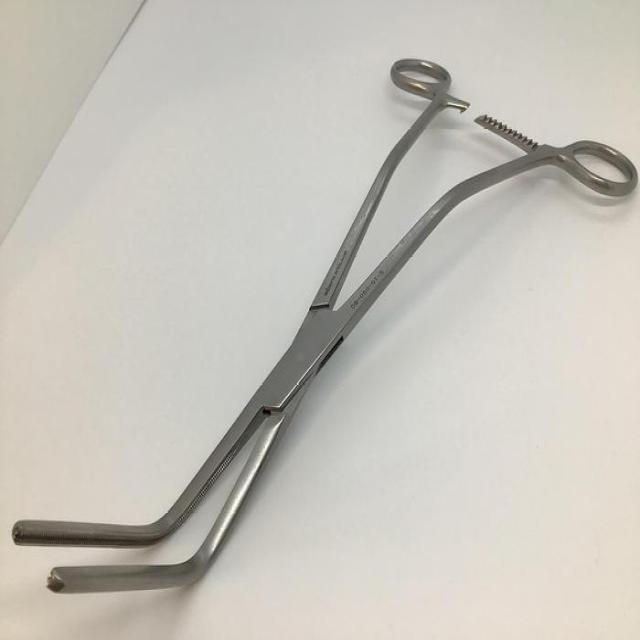Right Angle Colon Clamp: (16, 38, 636, 620)
